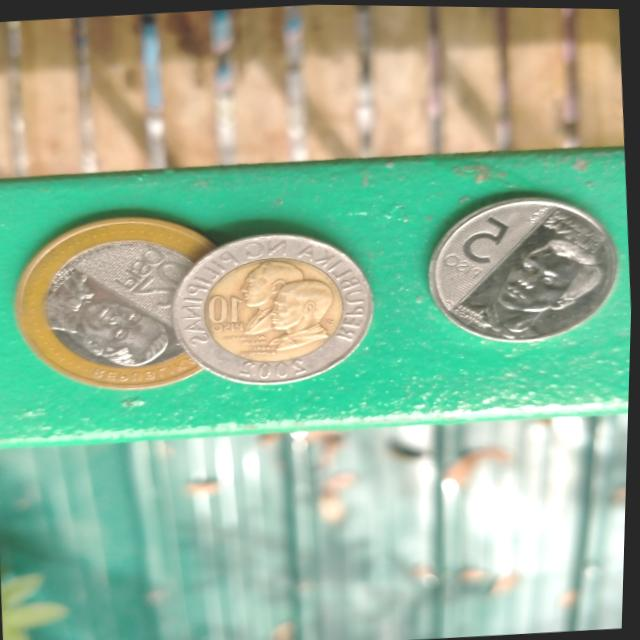10_Old_Front: (191, 285, 271, 343)
20_New_Front: (107, 239, 205, 318)
5_New_Front: (425, 206, 519, 291)
